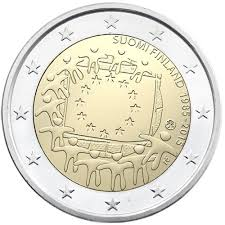eur002: (1, 2, 223, 224)
